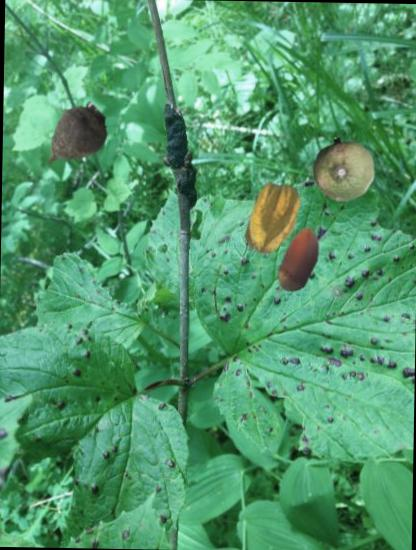Beetroot: (33, 98, 114, 179)
Hazelnut: (265, 225, 335, 295)
Limes: (310, 137, 376, 202)
Physalis: (234, 180, 310, 256)
